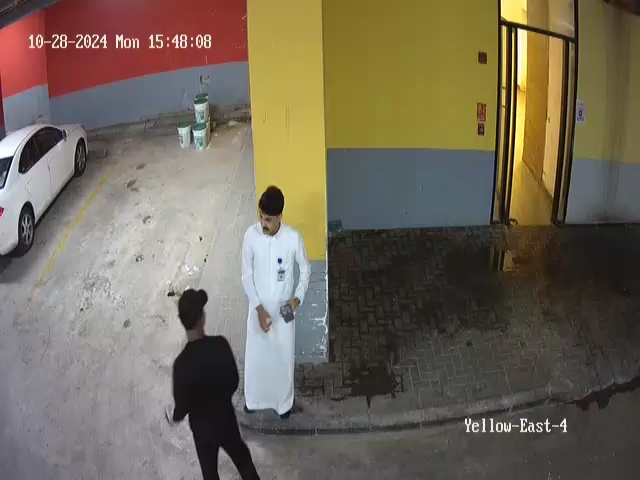male: (167, 288, 261, 480), (240, 185, 311, 419)
